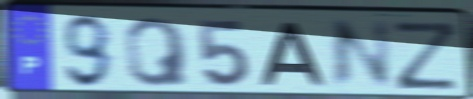5: (195, 17, 253, 88)
9: (61, 12, 116, 91)
A: (258, 20, 329, 88)
N: (328, 18, 395, 92)
Q: (122, 15, 192, 89)
Z: (391, 19, 462, 92)
